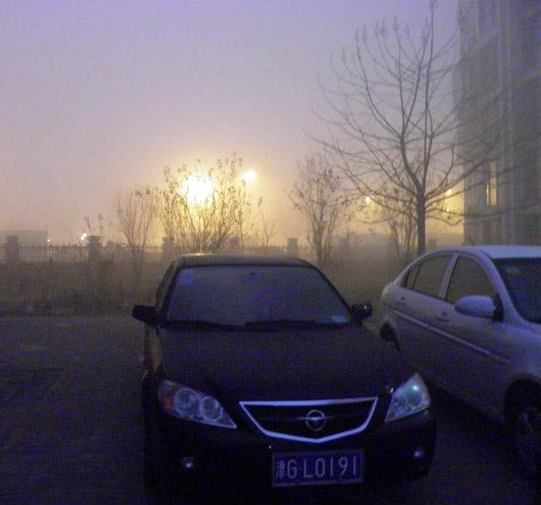car: (127, 245, 439, 497), (372, 244, 541, 479)
